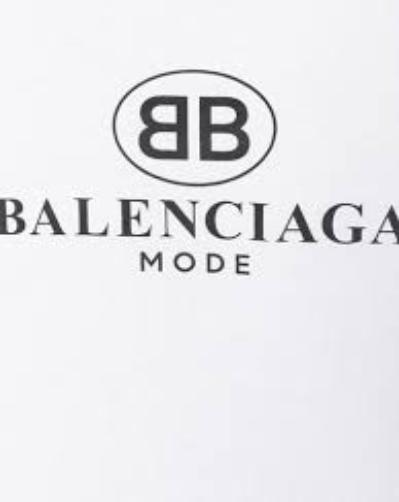BALENCIAGA: (2, 195, 396, 244), (135, 87, 250, 164)
